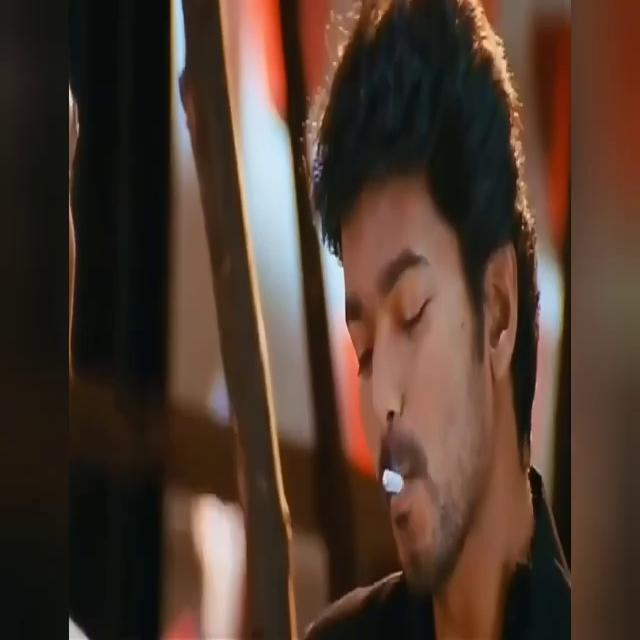smoking: (372, 484, 434, 486)
